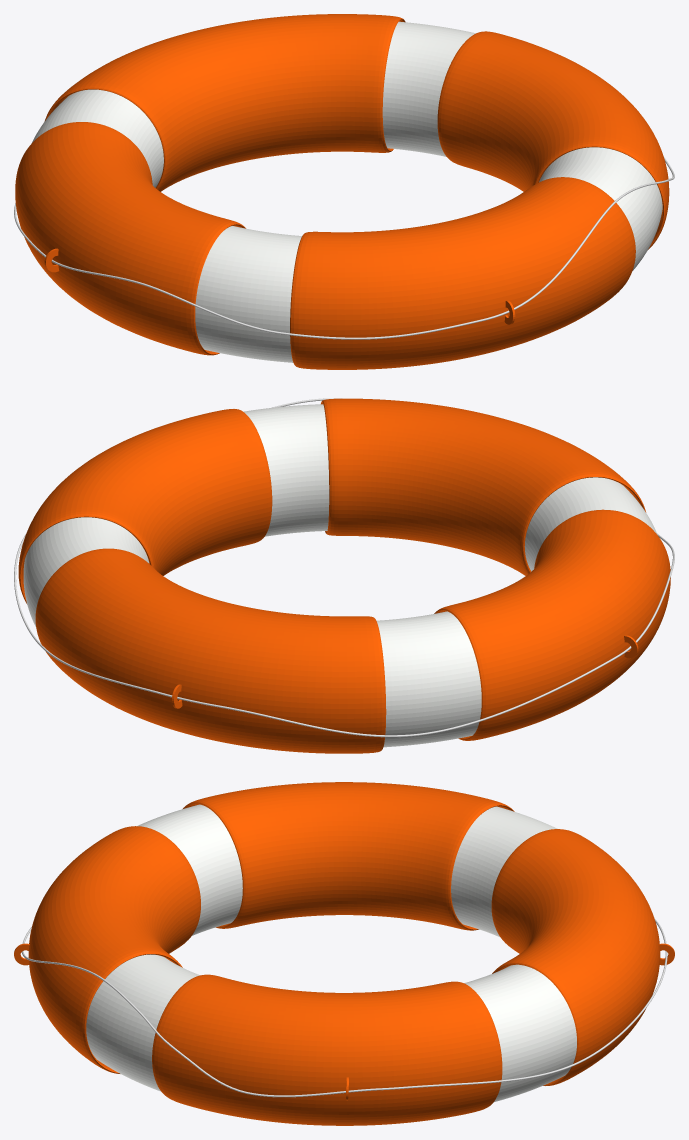
Rendered from lifeBouy.fbx.
The picture shows the model from 3 angles, top to bottom: view 1: azimuth 30°, elevation 25°; view 2: azimuth 150°, elevation 25°; view 3: azimuth 270°, elevation 25°; orthographic projection. The views are drawn at different scales.
Parts seen in each view (by area): view 1: Torus.001, Torus, Torus.002; view 2: Torus.001, Torus, Torus.002; view 3: Torus.001, Torus, Torus.002.
Part boxes in pixels (x1,y1,x2,y2): Torus.001: (15,14,669,369); Torus: (32,21,662,362); Torus.002: (14,156,674,339); Torus.001: (18,398,670,753); Torus: (23,404,657,747); Torus.002: (14,398,674,737); Torus.001: (28,782,660,1125); Torus: (86,804,576,1101); Torus.002: (21,918,667,1097).
Size of the model in its own units: 63.42 by 12.79 by 63.5.
